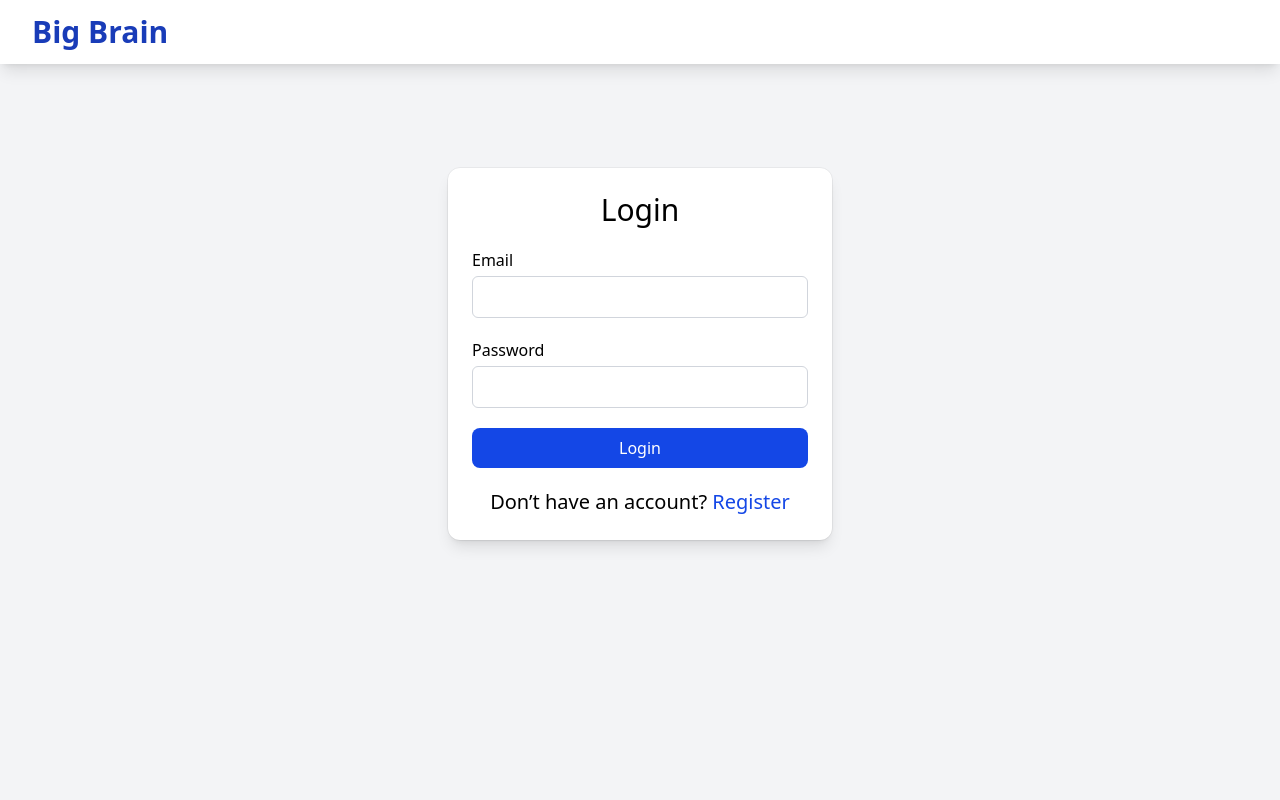
Test: Login Component › Throws arror if token doesnt exists
Type "test@example.com" into the field labelled "Email" at coordinates (640, 297), box [472,276,808,318]
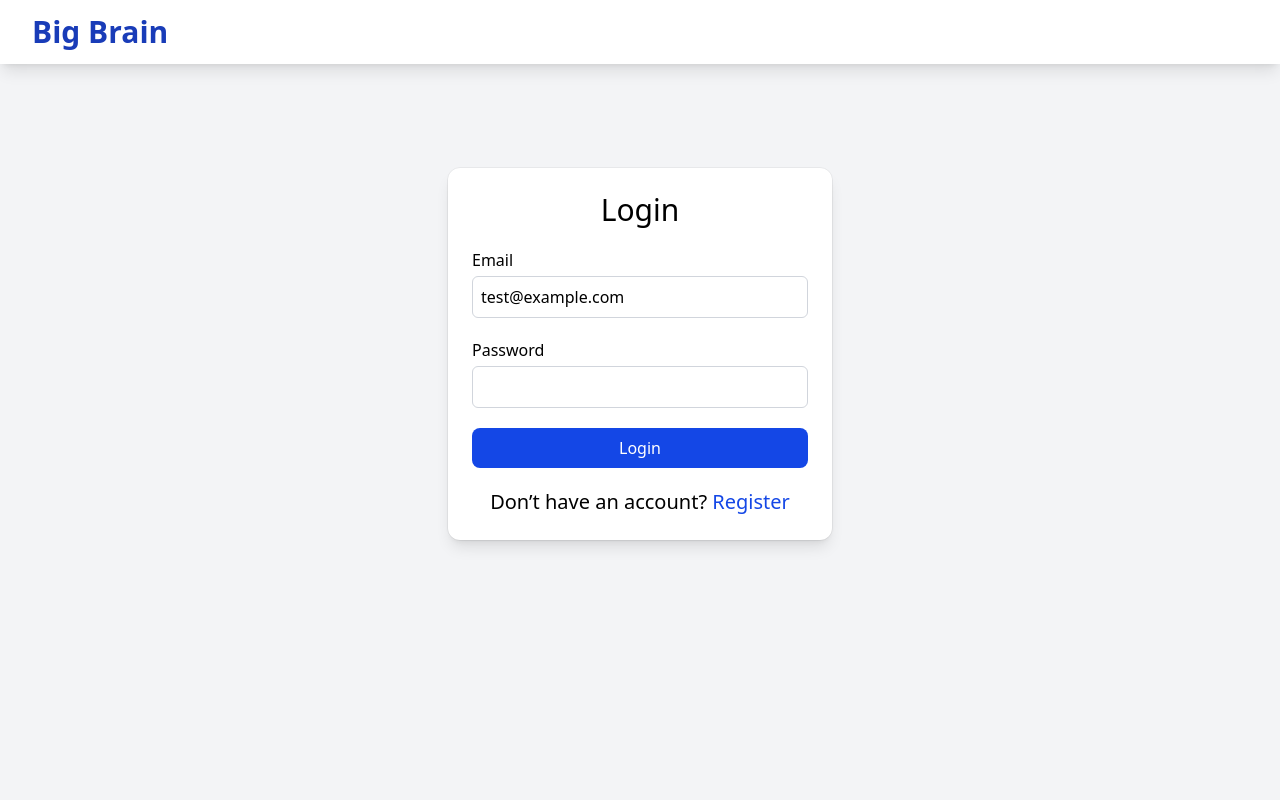
Type "password123" into the password field labelled "Password" at coordinates (640, 387), box [472,366,808,408]
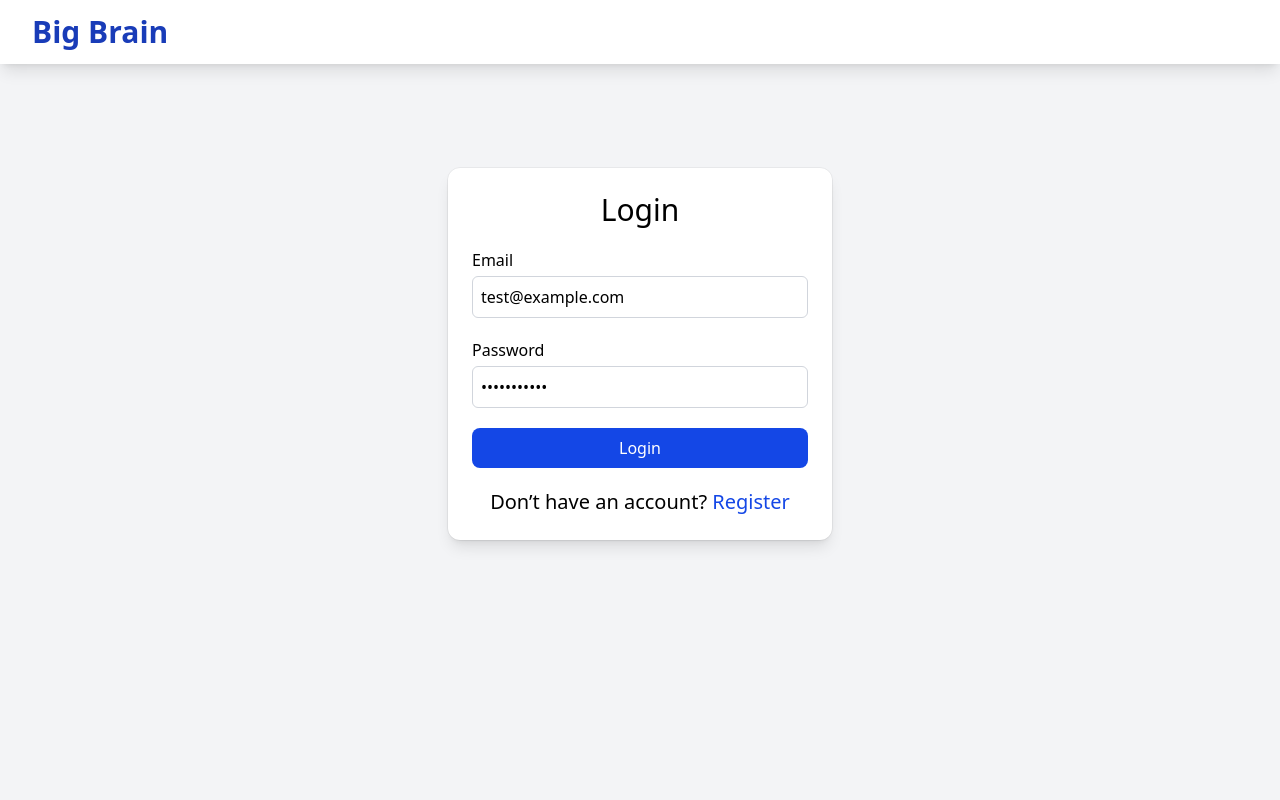
Click the button "Login" at coordinates (640, 448), box [472,428,808,468]
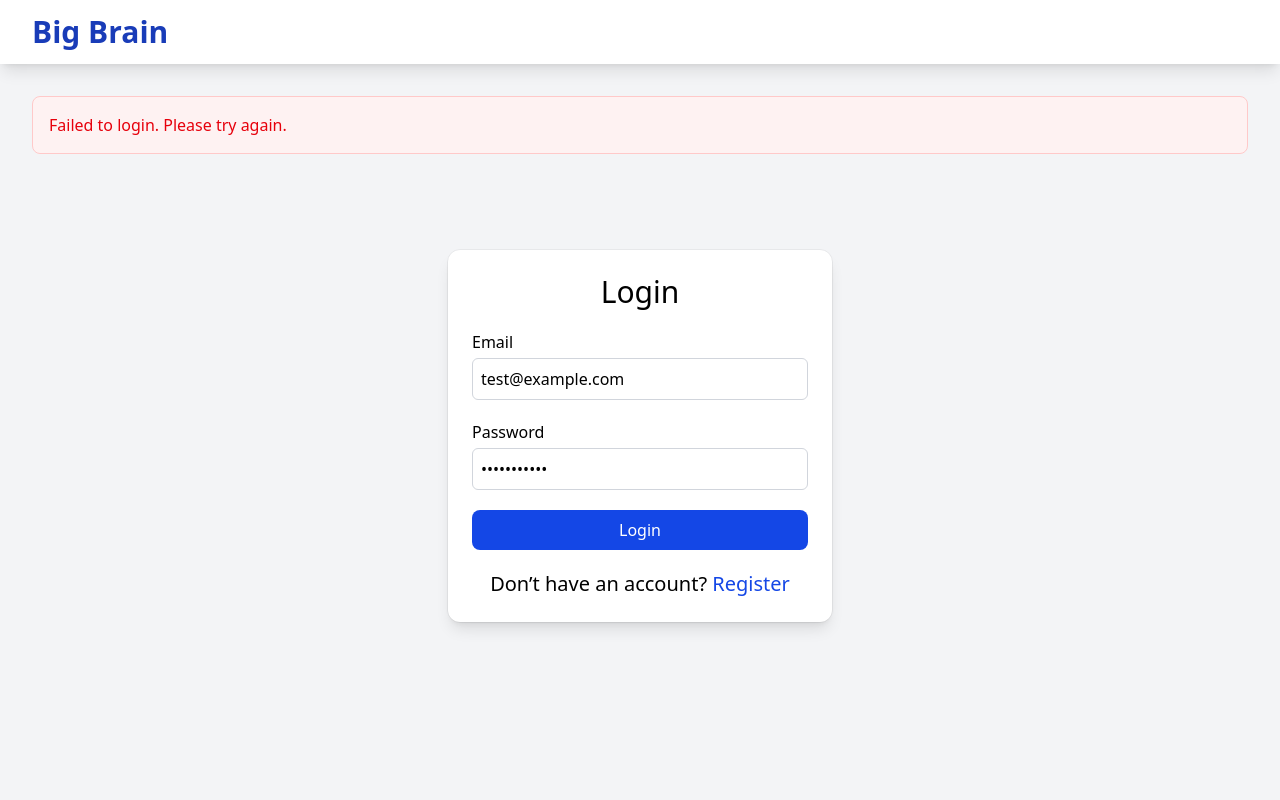
Expected: the text "Failed to login. Please try again." is shown, [49,114,287,136]
